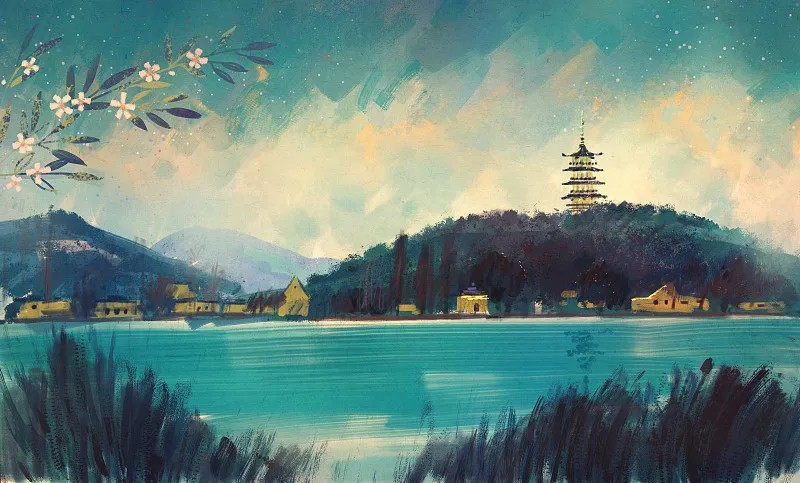Leifeng: (558, 109, 607, 213)
